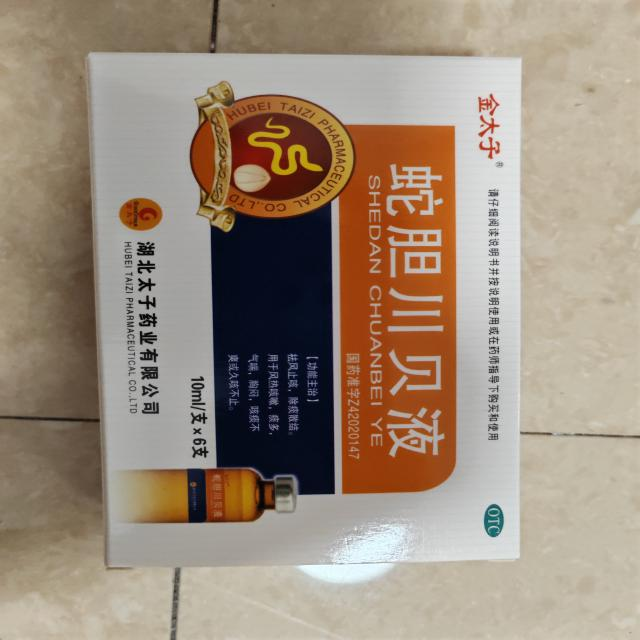box: (72, 41, 537, 576)
